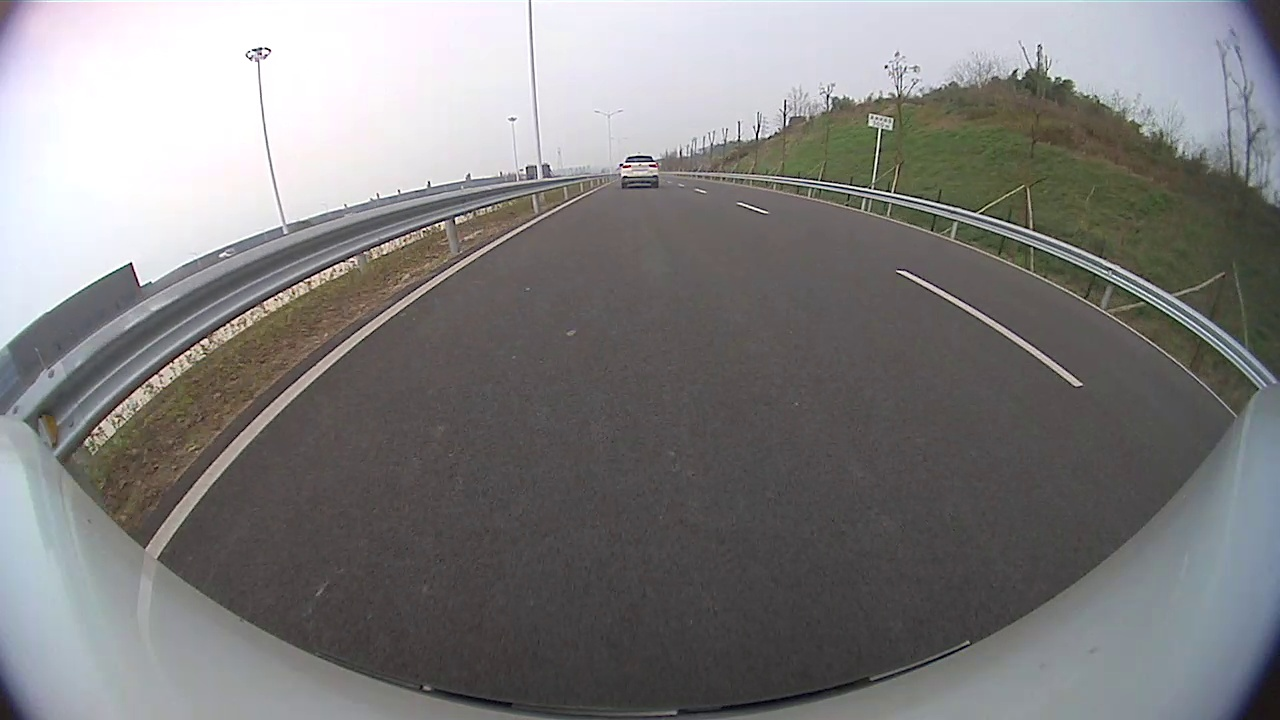car: (619, 155, 659, 189)
